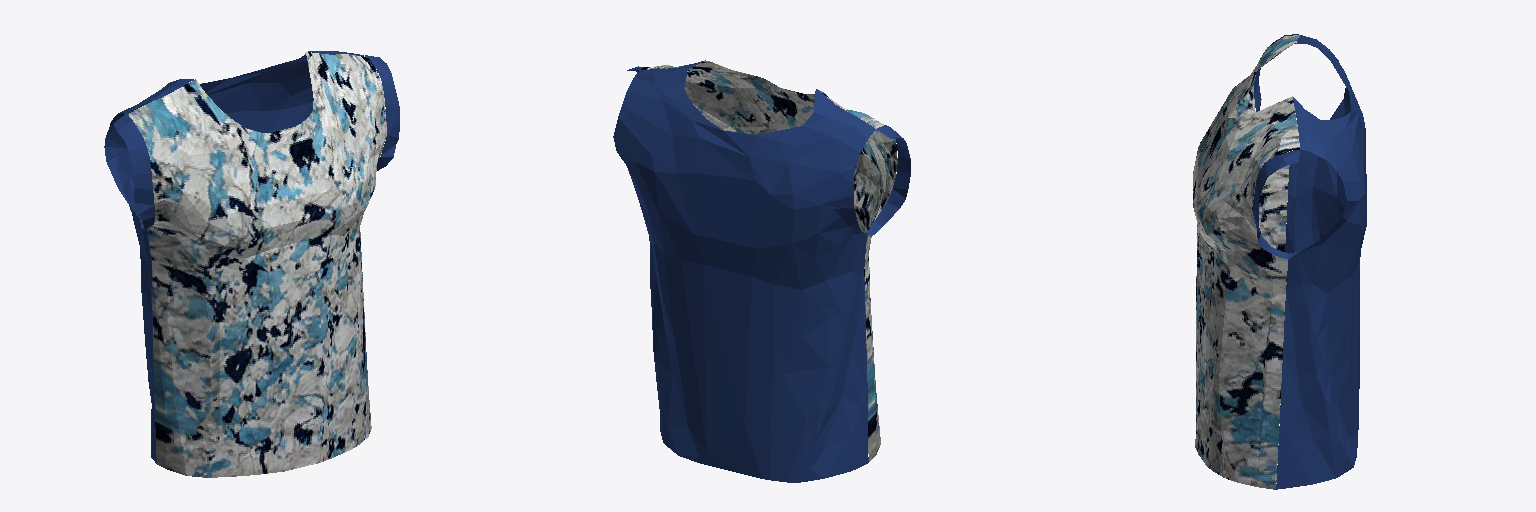
3 views of the same model, side by side, from view 1: azimuth 30°, elevation 25°; view 2: azimuth 150°, elevation 25°; view 3: azimuth 270°, elevation 25° (orthographic).
Parts seen in each view (by area): view 1: T_shirt.004; view 2: T_shirt.004; view 3: T_shirt.004.
Boxes of the visible parts, box(x1,y1,x2,y2) form: T_shirt.004: box(104, 51, 399, 477); T_shirt.004: box(613, 60, 910, 482); T_shirt.004: box(1193, 34, 1366, 489).
Bounding box in the file's own units: 0.2935 × 0.3892 × 0.1639.
2 materials, 1 textured.